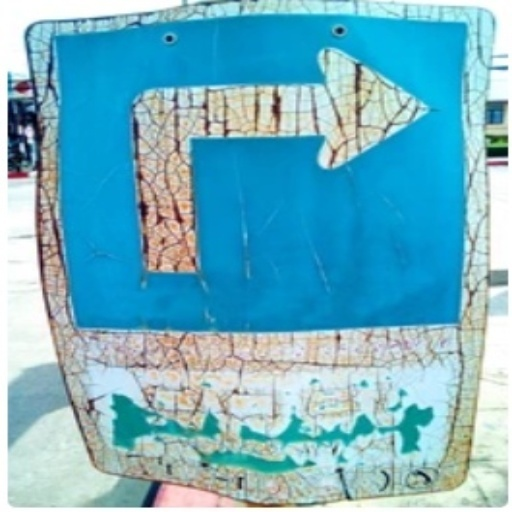Turn right: (109, 49, 433, 313)
